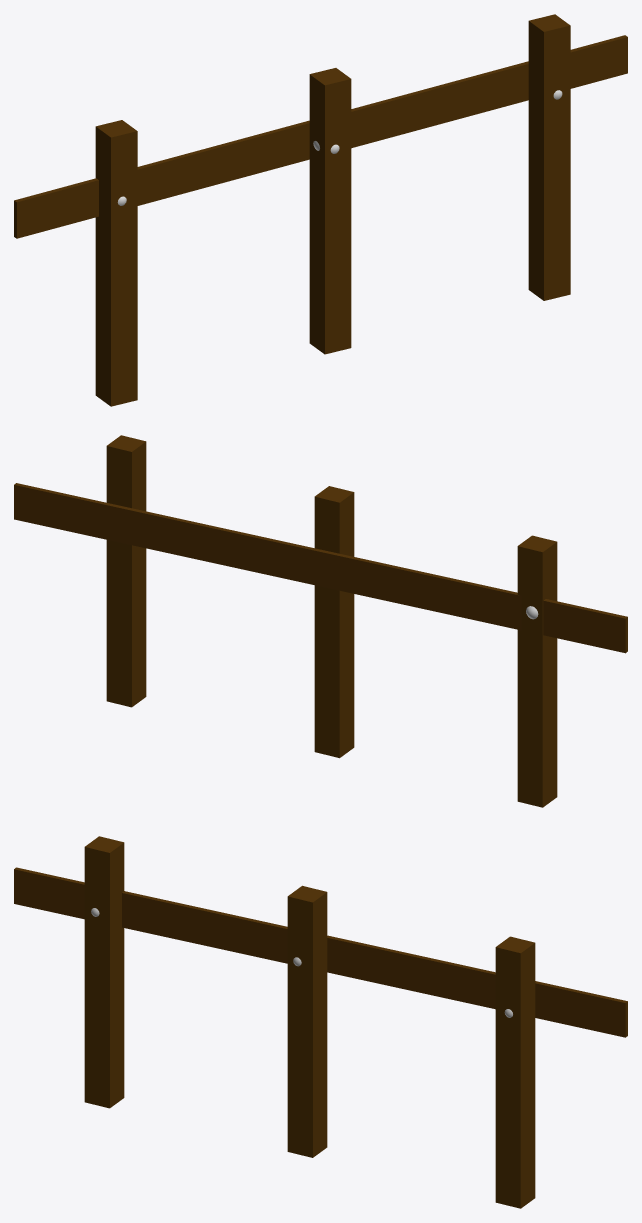
File: wood_f.fbx
The picture shows the model from 3 angles, top to bottom: view 1: azimuth 30°, elevation 25°; view 2: azimuth 150°, elevation 25°; view 3: azimuth 330°, elevation 25°; orthographic projection. The views are drawn at different scales.
Parts seen in each view (by area): view 1: Box004, Box001, Box002, Box003; view 2: Box004, Box003, Box002, Box001; view 3: Box004, Box002, Box001, Box003.
Boxes of the visible parts, bbox=[...] form: Box004: bbox=[14, 35, 627, 238]; Box001: bbox=[528, 14, 570, 300]; Box002: bbox=[309, 68, 351, 354]; Box003: bbox=[95, 120, 137, 406]; Box004: bbox=[14, 483, 627, 653]; Box003: bbox=[517, 535, 557, 807]; Box002: bbox=[314, 486, 354, 758]; Box001: bbox=[106, 435, 146, 707]; Box004: bbox=[14, 867, 627, 1037]; Box002: bbox=[287, 885, 327, 1157]; Box001: bbox=[495, 936, 535, 1208]; Box003: bbox=[84, 836, 124, 1108].
Bounding box in the file's own units: 96.11 × 39.36 × 7.93.
